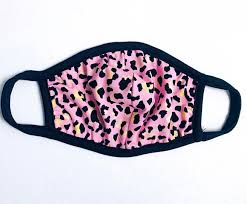cloth_mask: (2, 39, 243, 160)
